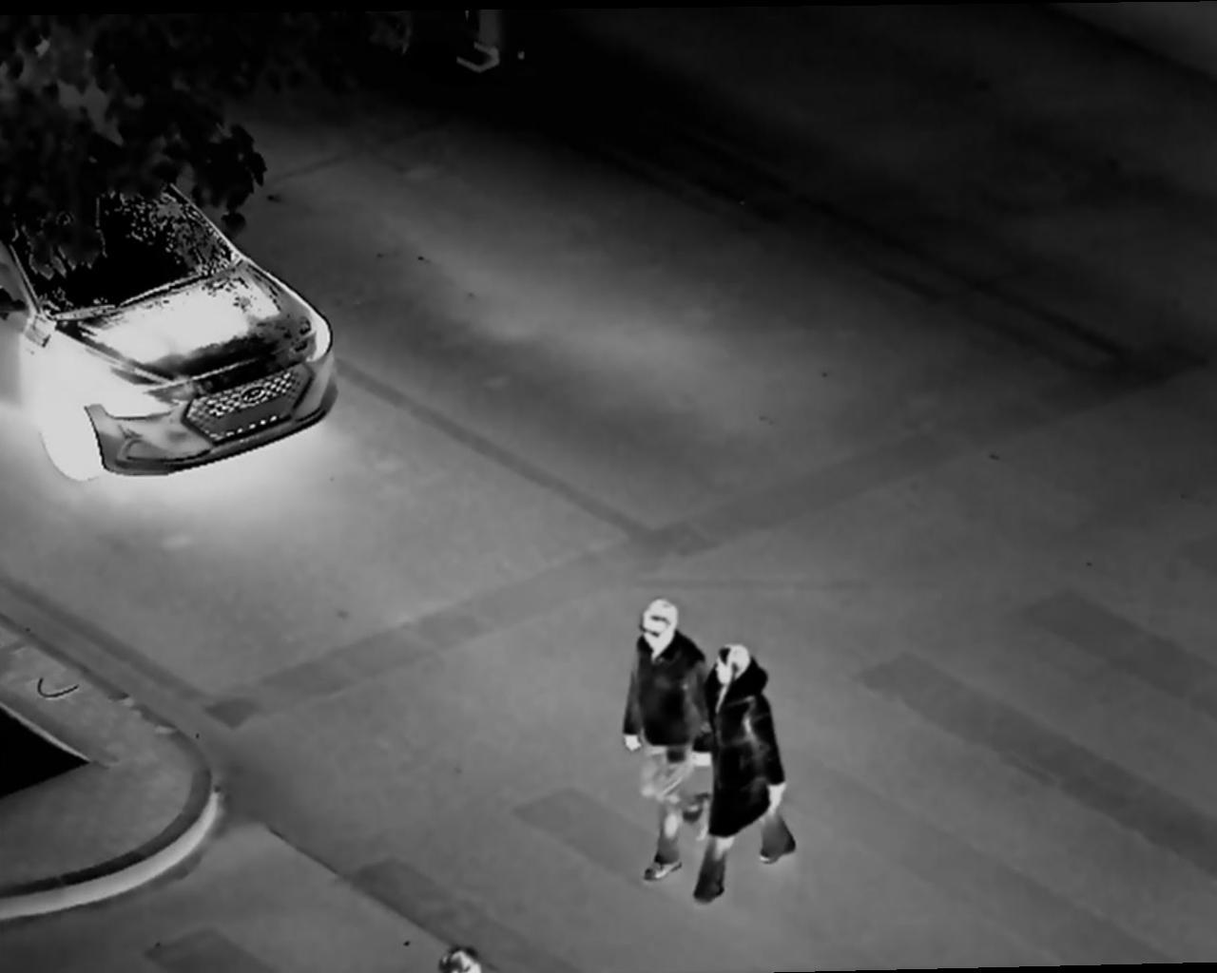person: (694, 638, 812, 894), (617, 588, 711, 865)
